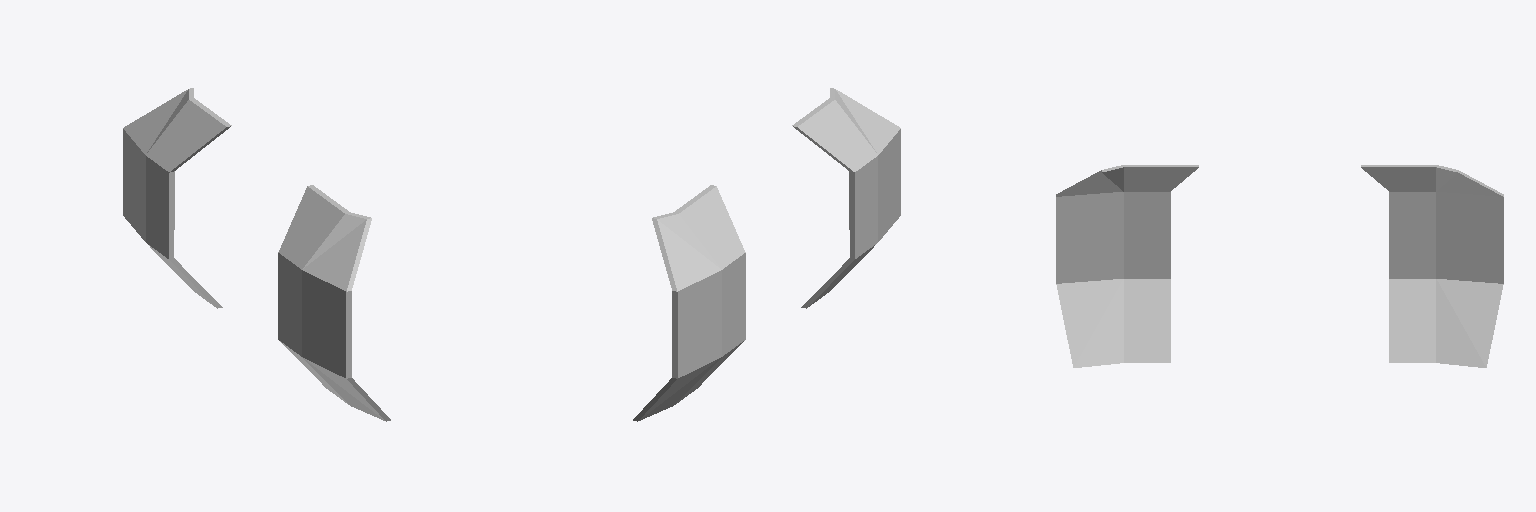
File: Bronya 1.obj
3 views of the same model, side by side, from view 1: azimuth 30°, elevation 25°; view 2: azimuth 150°, elevation 25°; view 3: azimuth 270°, elevation 25° (orthographic).
Parts seen in each view (by area): view 1: Bronya_1; view 2: Bronya_1; view 3: Bronya_1.
Boxes of the visible parts, x1,y1,x2,y2 form: Bronya_1: [123, 88, 390, 421]; Bronya_1: [633, 88, 900, 421]; Bronya_1: [1056, 165, 1503, 367].
Size of the model in its own units: 6.53 by 18.67 by 39.16.